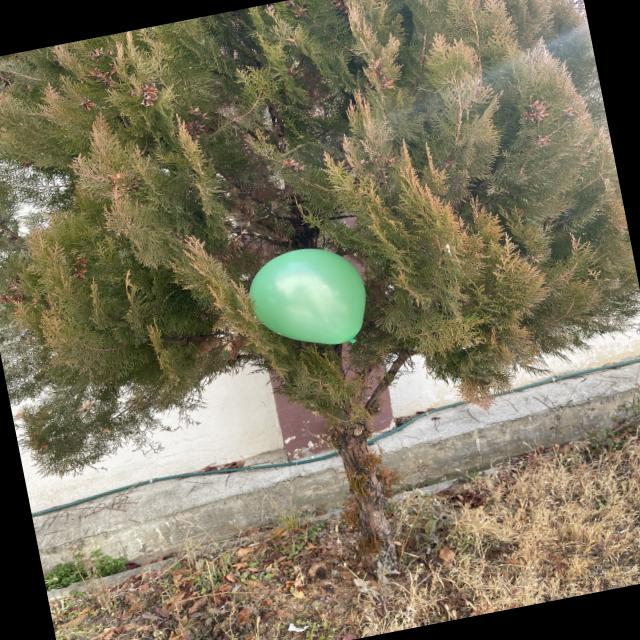balloon: (250, 249, 366, 344)
